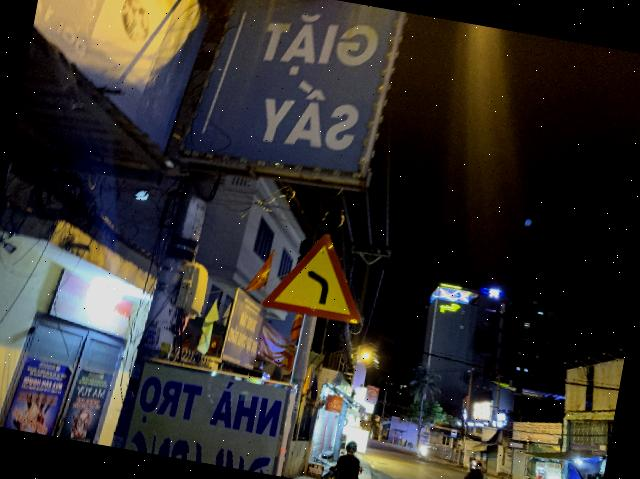cho-ngoat-nguy-hiem-ben-phai: (259, 224, 374, 324)
